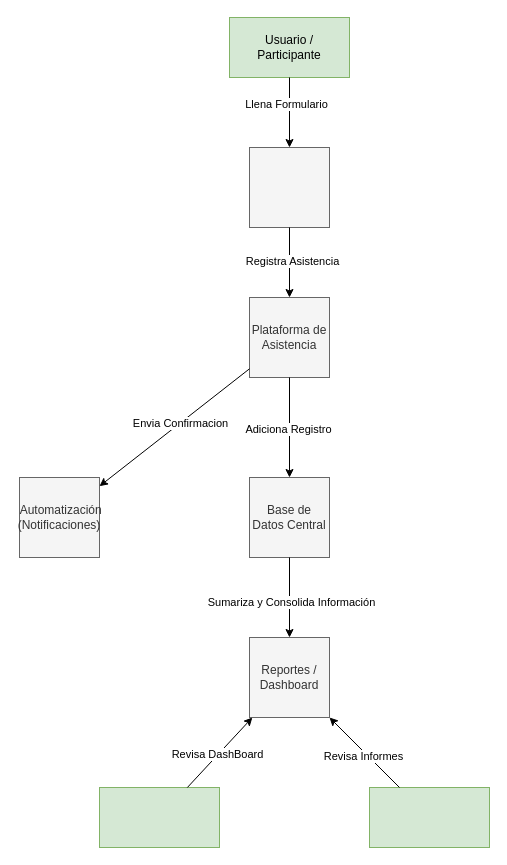
Image size: 507x865. Some labels were removed from this diagram. The shapes that lost their labels are listed below. From the top down, each one's centre as x and y in pixels, then its label:
At [289,187]: "Formulario de Registro".
At [159,817]: "Administrador / Coordinador".
At [429,817]: "Cliente Institucional".
